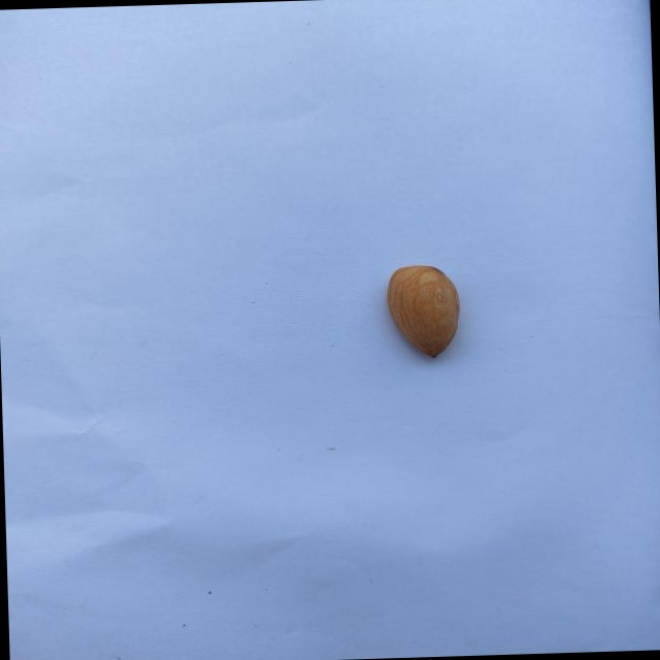grade2: (379, 261, 465, 362)
